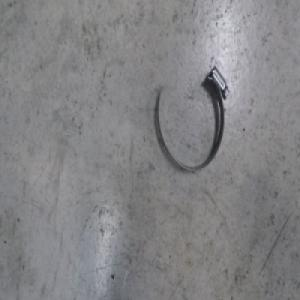AdjustableClamp: (156, 64, 229, 175)
